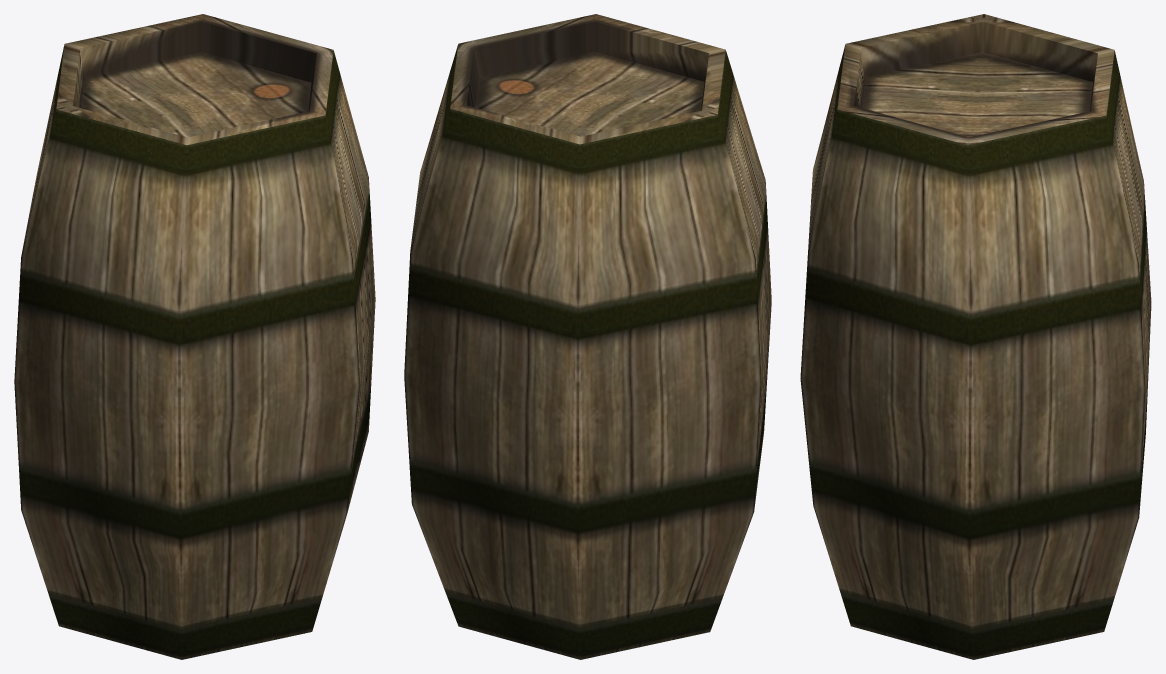
Rendered from barrel_worn.fbx.
3 renders of one model, left to right at view 1: azimuth 30°, elevation 25°; view 2: azimuth 150°, elevation 25°; view 3: azimuth 270°, elevation 25°, orthographic.
Parts seen in each view (by area): view 1: barrel_high; view 2: barrel_high; view 3: barrel_high.
Part boxes in pixels (x1,y1,x2,y2): barrel_high: (14, 14, 375, 659); barrel_high: (404, 14, 771, 659); barrel_high: (800, 14, 1151, 659).
Size of the model in its own units: 461 by 645 by 395.
1 material, 1 textured.
